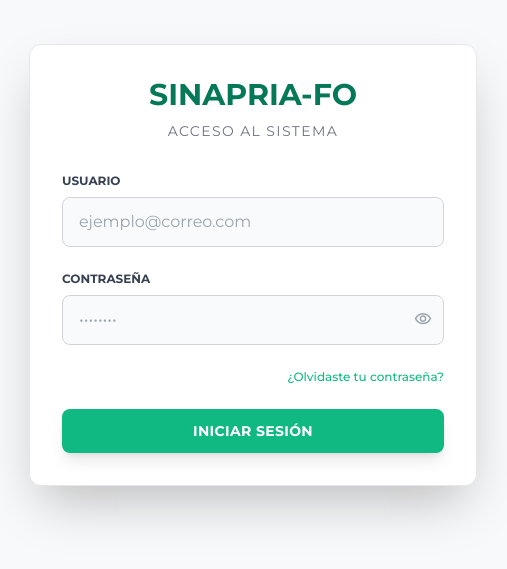
Test: Login Component › shows error message for invalid email format
Type "invalid-email" into the field labelled "Usuario" at (253,222), box [62,197,444,247]
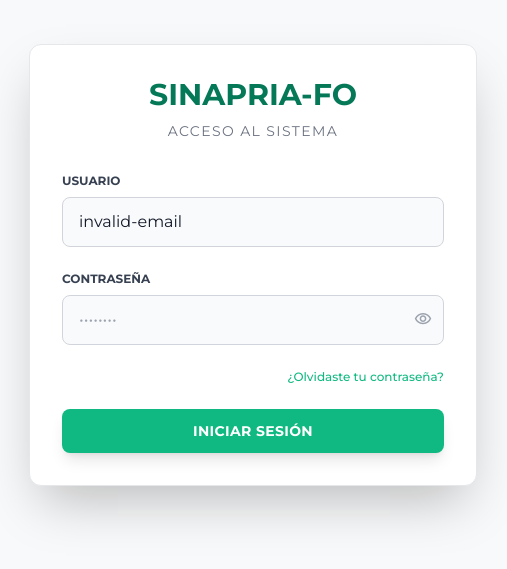
Type "password" into the password field labelled "Contraseña" at (253,320), box [62,295,444,345]
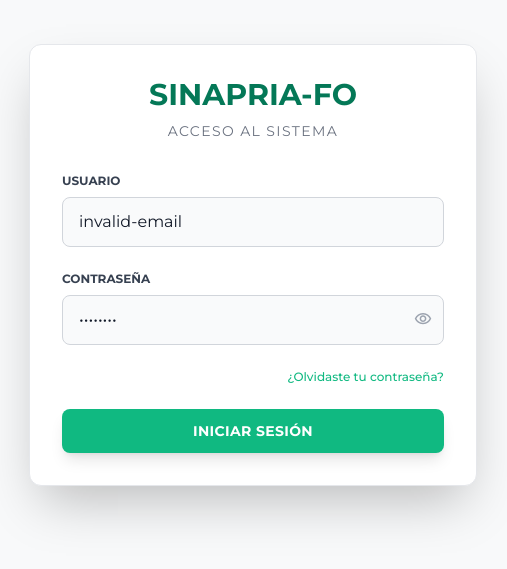
Click the button "Iniciar Sesión" at (253,431), box [62,409,444,453]
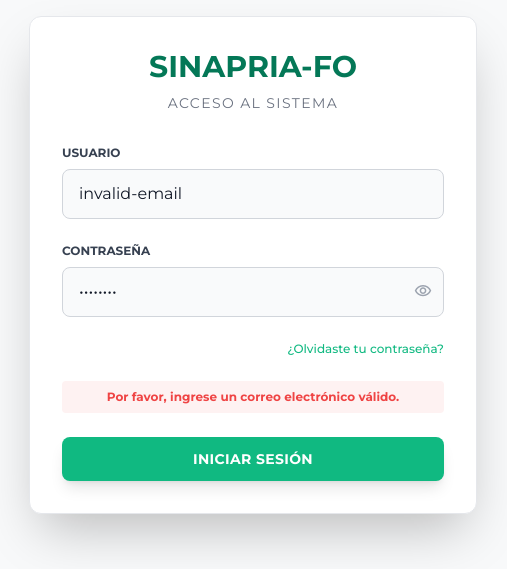
Check: the text "Por favor, ingrese un correo electrónico válido." is shown, box [62,381,444,413]
